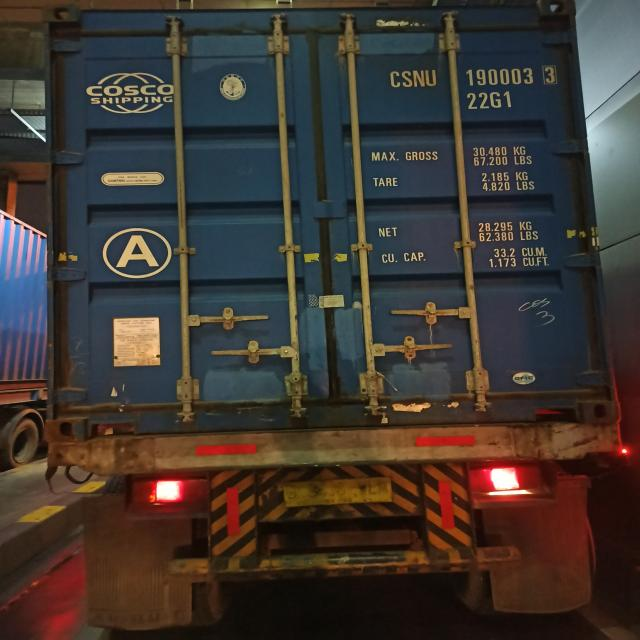seal: (379, 403, 390, 425)
